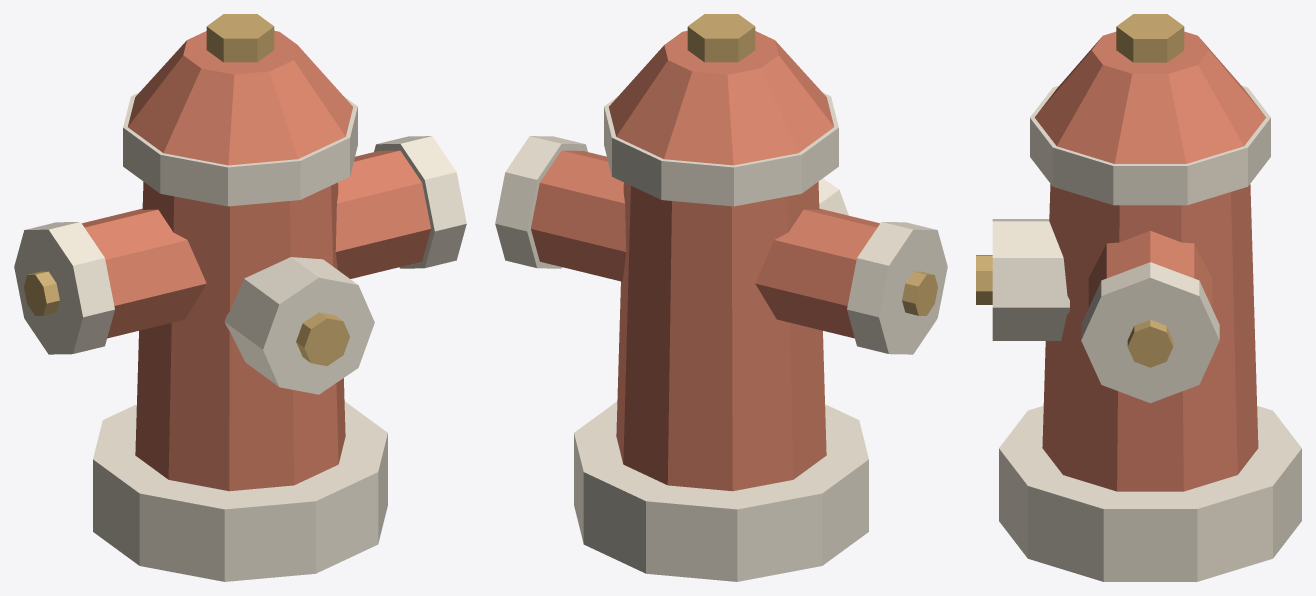
Rendered from hydrant.glb.
The picture shows the model from 3 angles, left to right: view 1: azimuth 30°, elevation 25°; view 2: azimuth 150°, elevation 25°; view 3: azimuth 270°, elevation 25°; orthographic projection.
Visible parts, largest first — view 1: ModelMesh; view 2: ModelMesh; view 3: ModelMesh.
Boxes of the visible parts, x1=… form: ModelMesh: x1=14, y1=14, x2=466, y2=581; ModelMesh: x1=495, y1=14, x2=947, y2=581; ModelMesh: x1=976, y1=14, x2=1301, y2=581.
Size of the model in its own units: 0.77 by 0.8825 by 0.527.
